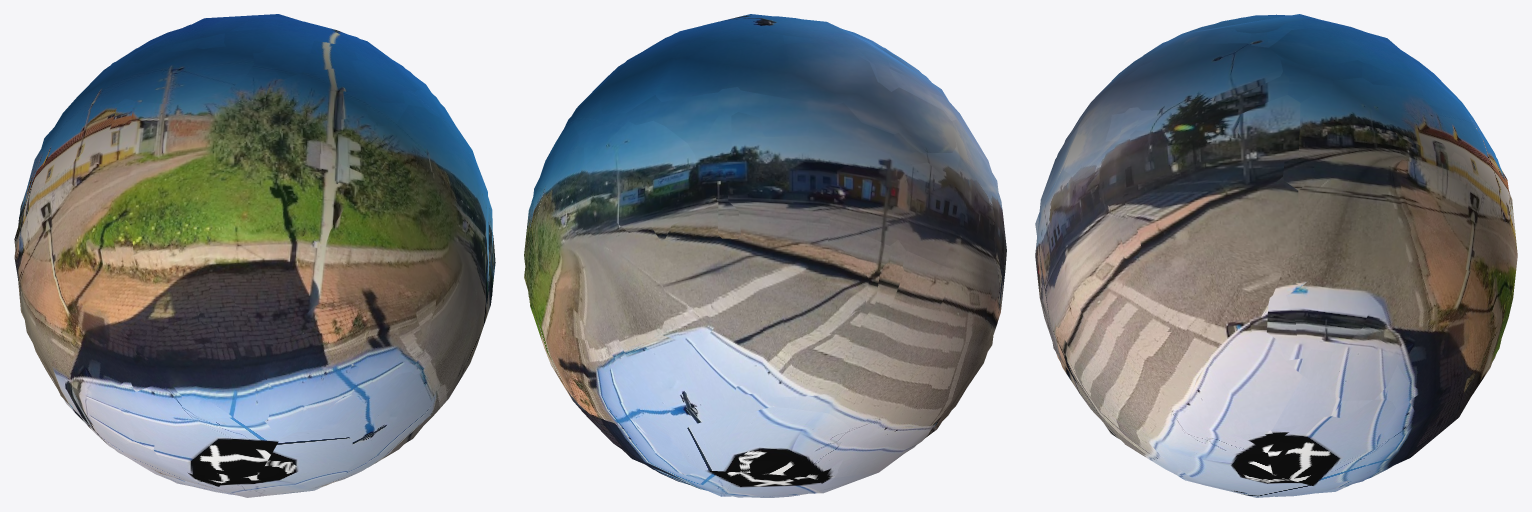
Rendered from __lods__Overtaking-10.glb.
3 views of the same model, side by side, from view 1: azimuth 30°, elevation 25°; view 2: azimuth 150°, elevation 25°; view 3: azimuth 270°, elevation 25° (orthographic).
Visible parts, largest first — view 1: __LOD_2__Sphere, __LOD_1__Sphere, __LOD_0__Sphere; view 2: __LOD_2__Sphere, __LOD_1__Sphere, __LOD_0__Sphere; view 3: __LOD_2__Sphere, __LOD_1__Sphere, __LOD_0__Sphere.
Boxes of the visible parts, box(x1,y1,x2,y2) form: __LOD_2__Sphere: box(14, 14, 489, 497); __LOD_1__Sphere: box(14, 15, 493, 496); __LOD_0__Sphere: box(16, 16, 495, 494); __LOD_2__Sphere: box(524, 14, 998, 496); __LOD_1__Sphere: box(524, 15, 1006, 497); __LOD_0__Sphere: box(525, 16, 1006, 497); __LOD_2__Sphere: box(1035, 14, 1517, 497); __LOD_1__Sphere: box(1035, 15, 1517, 497); __LOD_0__Sphere: box(1035, 14, 1517, 496).
Bounding box in the file's own units: 2 × 2 × 2.
1 material, 1 textured.
